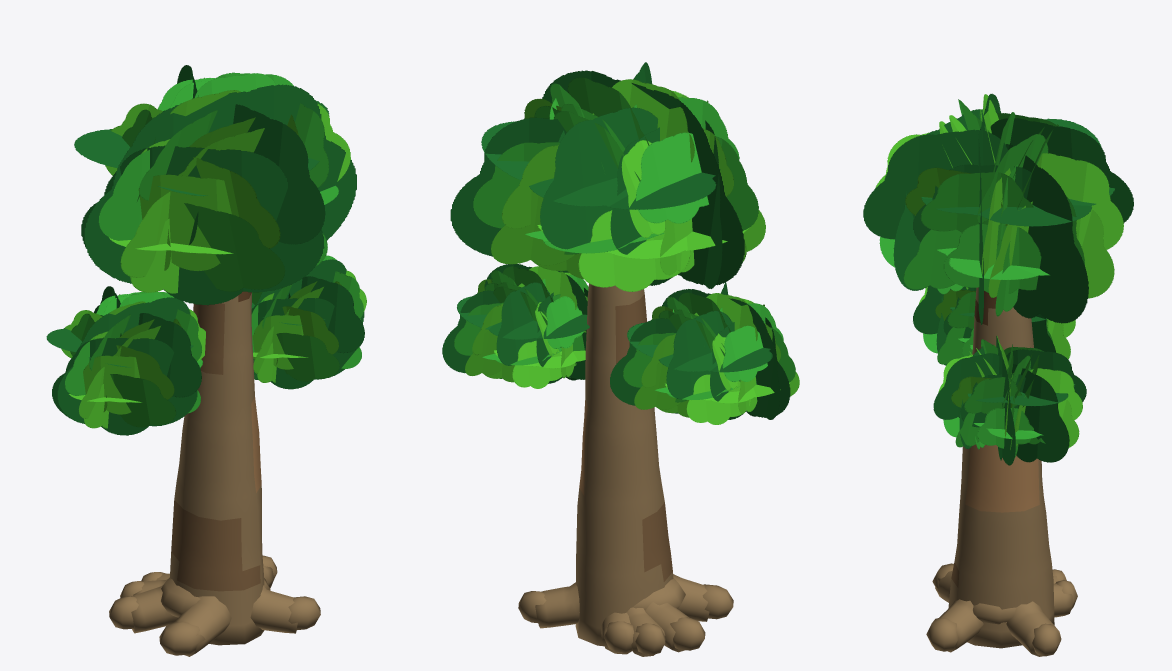
The model's file is TREE_EUCALYPTUS_001_v018_LOD_CLOSE.glb.
3 views of the same model, side by side, from view 1: azimuth 30°, elevation 25°; view 2: azimuth 150°, elevation 25°; view 3: azimuth 270°, elevation 25° (orthographic). The views are drawn at different scales.
Parts seen in each view (by area): view 1: TREE_EUCALYPTUS_001_CLOSE_AUTHORED_FOLIAGE_ISLANDS, TREE_EUCALYPTUS_001_CLOSE_MAIN_TRUNK, TREE_EUCALYPTUS_001_CLOSE_ROOT_FRONT_LEFT, TREE_EUCALYPTUS_001_CLOSE_ROOT_FRONT_RIGHT, TREE_EUCALYPTUS_001_CLOSE_ROOT_LONG_LEFT, TREE_EUCALYPTUS_001_CLOSE_ROOT_TOE_FRONT_LEFT, TREE_EUCALYPTUS_001_CLOSE_BROAD_PLANTED_ROOT_MOUND, TREE_EUCALYPTUS_001_CLOSE_ROOT_TOE_FRONT_RIGHT, TREE_EUCALYPTUS_001_CLOSE_ROOT_TOE_LONG_LEFT; view 2: TREE_EUCALYPTUS_001_CLOSE_AUTHORED_FOLIAGE_ISLANDS, TREE_EUCALYPTUS_001_CLOSE_MAIN_TRUNK, TREE_EUCALYPTUS_001_CLOSE_ROOT_RIGHT_SIDE, TREE_EUCALYPTUS_001_CLOSE_ROOT_FRONT_LEFT, TREE_EUCALYPTUS_001_CLOSE_ROOT_TOE_LONG_LEFT, TREE_EUCALYPTUS_001_CLOSE_ROOT_LONG_LEFT, TREE_EUCALYPTUS_001_CLOSE_ROOT_TOE_FRONT_LEFT, TREE_EUCALYPTUS_001_CLOSE_ROOT_TOE_LEFT_REAR, TREE_EUCALYPTUS_001_CLOSE_ROOT_TOE_REAR_SHORT, TREE_EUCALYPTUS_001_CLOSE_BROAD_PLANTED_ROOT_MOUND, TREE_EUCALYPTUS_001_CLOSE_ROOT_TOE_RIGHT_SIDE, TREE_EUCALYPTUS_001_CLOSE_ROOT_LEFT_REAR; view 3: TREE_EUCALYPTUS_001_CLOSE_AUTHORED_FOLIAGE_ISLANDS, TREE_EUCALYPTUS_001_CLOSE_MAIN_TRUNK, TREE_EUCALYPTUS_001_CLOSE_ROOT_RIGHT_SIDE, TREE_EUCALYPTUS_001_CLOSE_ROOT_FRONT_RIGHT, TREE_EUCALYPTUS_001_CLOSE_ROOT_TOE_FRONT_RIGHT, TREE_EUCALYPTUS_001_CLOSE_ROOT_TOE_RIGHT_SIDE, TREE_EUCALYPTUS_001_CLOSE_BROAD_PLANTED_ROOT_MOUND, TREE_EUCALYPTUS_001_CLOSE_ROOT_REAR_SHORT.
Part boxes in pixels (bbox=[...]): TREE_EUCALYPTUS_001_CLOSE_AUTHORED_FOLIAGE_ISLANDS: bbox=[46, 65, 366, 435]; TREE_EUCALYPTUS_001_CLOSE_MAIN_TRUNK: bbox=[170, 291, 264, 645]; TREE_EUCALYPTUS_001_CLOSE_ROOT_FRONT_LEFT: bbox=[175, 596, 231, 656]; TREE_EUCALYPTUS_001_CLOSE_ROOT_FRONT_RIGHT: bbox=[250, 585, 299, 633]; TREE_EUCALYPTUS_001_CLOSE_ROOT_LONG_LEFT: bbox=[131, 585, 177, 633]; TREE_EUCALYPTUS_001_CLOSE_ROOT_TOE_FRONT_LEFT: bbox=[159, 621, 205, 655]; TREE_EUCALYPTUS_001_CLOSE_BROAD_PLANTED_ROOT_MOUND: bbox=[161, 577, 270, 617]; TREE_EUCALYPTUS_001_CLOSE_ROOT_TOE_FRONT_RIGHT: bbox=[288, 596, 320, 629]; TREE_EUCALYPTUS_001_CLOSE_ROOT_TOE_LONG_LEFT: bbox=[109, 596, 138, 629]; TREE_EUCALYPTUS_001_CLOSE_AUTHORED_FOLIAGE_ISLANDS: bbox=[442, 62, 799, 424]; TREE_EUCALYPTUS_001_CLOSE_MAIN_TRUNK: bbox=[575, 283, 673, 646]; TREE_EUCALYPTUS_001_CLOSE_ROOT_RIGHT_SIDE: bbox=[535, 582, 579, 628]; TREE_EUCALYPTUS_001_CLOSE_ROOT_FRONT_LEFT: bbox=[673, 574, 709, 621]; TREE_EUCALYPTUS_001_CLOSE_ROOT_TOE_LONG_LEFT: bbox=[670, 617, 705, 650]; TREE_EUCALYPTUS_001_CLOSE_ROOT_LONG_LEFT: bbox=[645, 602, 689, 652]; TREE_EUCALYPTUS_001_CLOSE_ROOT_TOE_FRONT_LEFT: bbox=[702, 584, 733, 619]; TREE_EUCALYPTUS_001_CLOSE_ROOT_TOE_LEFT_REAR: bbox=[635, 623, 665, 654]; TREE_EUCALYPTUS_001_CLOSE_ROOT_TOE_REAR_SHORT: bbox=[604, 621, 633, 652]; TREE_EUCALYPTUS_001_CLOSE_BROAD_PLANTED_ROOT_MOUND: bbox=[633, 578, 685, 610]; TREE_EUCALYPTUS_001_CLOSE_ROOT_TOE_RIGHT_SIDE: bbox=[518, 591, 546, 622]; TREE_EUCALYPTUS_001_CLOSE_ROOT_LEFT_REAR: bbox=[626, 607, 665, 656]; TREE_EUCALYPTUS_001_CLOSE_AUTHORED_FOLIAGE_ISLANDS: bbox=[863, 93, 1133, 465]; TREE_EUCALYPTUS_001_CLOSE_MAIN_TRUNK: bbox=[948, 287, 1054, 648]; TREE_EUCALYPTUS_001_CLOSE_ROOT_RIGHT_SIDE: bbox=[1006, 601, 1061, 656]; TREE_EUCALYPTUS_001_CLOSE_ROOT_FRONT_RIGHT: bbox=[939, 599, 983, 652]; TREE_EUCALYPTUS_001_CLOSE_ROOT_TOE_FRONT_RIGHT: bbox=[926, 617, 959, 651]; TREE_EUCALYPTUS_001_CLOSE_ROOT_TOE_RIGHT_SIDE: bbox=[1032, 623, 1061, 656]; TREE_EUCALYPTUS_001_CLOSE_BROAD_PLANTED_ROOT_MOUND: bbox=[973, 603, 1016, 624]; TREE_EUCALYPTUS_001_CLOSE_ROOT_REAR_SHORT: bbox=[1053, 583, 1072, 617].
Bounding box in the file's own units: 4.13 × 6.57 × 3.3.
Materials: 5 (1 with a texture image).
